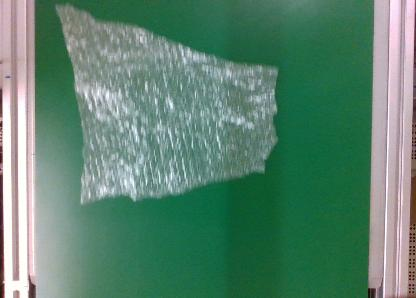Others: (52, 2, 278, 206)
